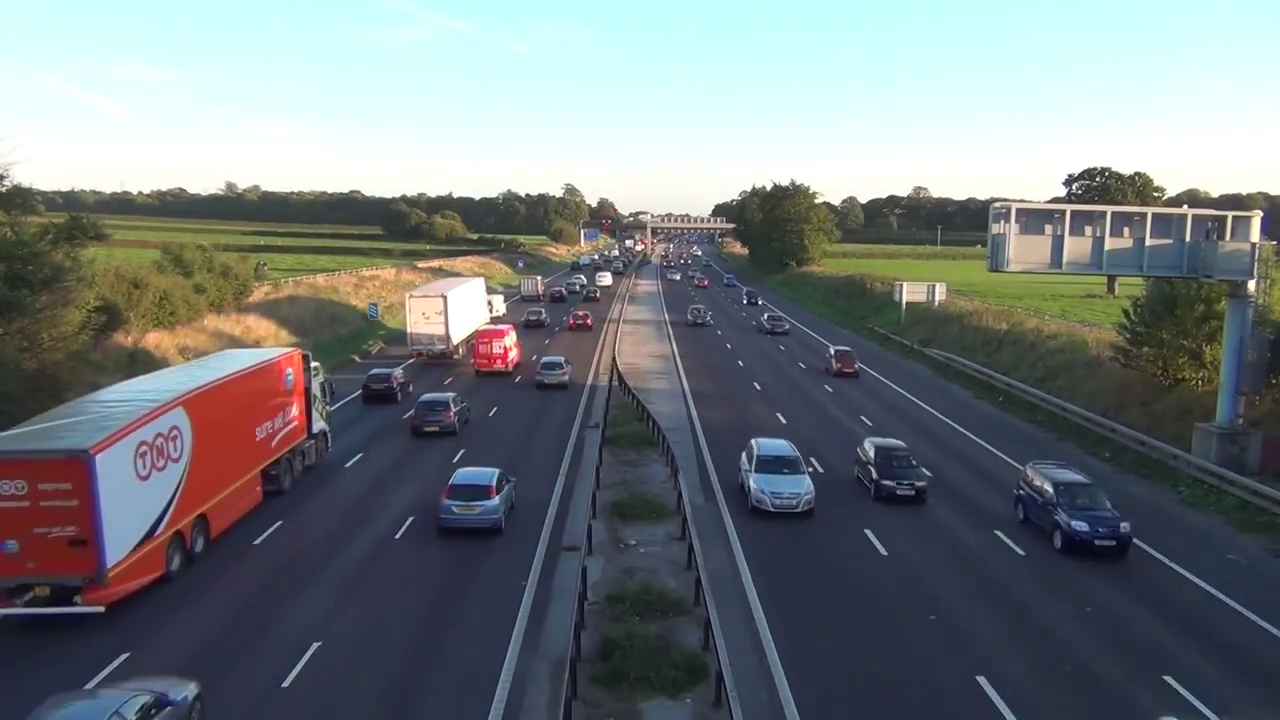bus: (1013, 459, 1134, 557), (9, 676, 213, 720), (741, 439, 821, 522), (438, 462, 518, 540), (851, 436, 930, 507), (412, 393, 469, 437), (360, 368, 415, 405), (822, 344, 866, 377), (533, 356, 573, 392), (758, 313, 789, 336), (521, 308, 551, 329), (686, 305, 713, 327), (567, 311, 594, 330), (740, 287, 764, 307), (580, 286, 602, 303), (547, 287, 568, 303)
car: (0, 348, 332, 636), (405, 277, 495, 366), (520, 275, 546, 303)
lorry: (490, 293, 508, 319)
minibus: (473, 323, 520, 378)
